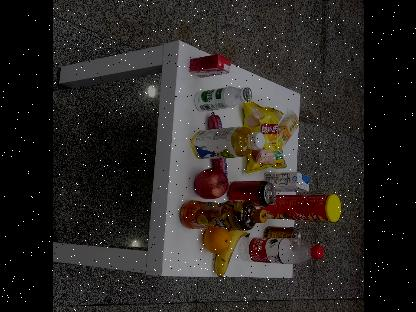Can: (226, 181, 275, 206), (263, 226, 303, 246)
Others: (260, 194, 344, 222), (184, 52, 233, 82), (263, 168, 311, 194)
Plastic Bottle: (246, 232, 326, 268)
